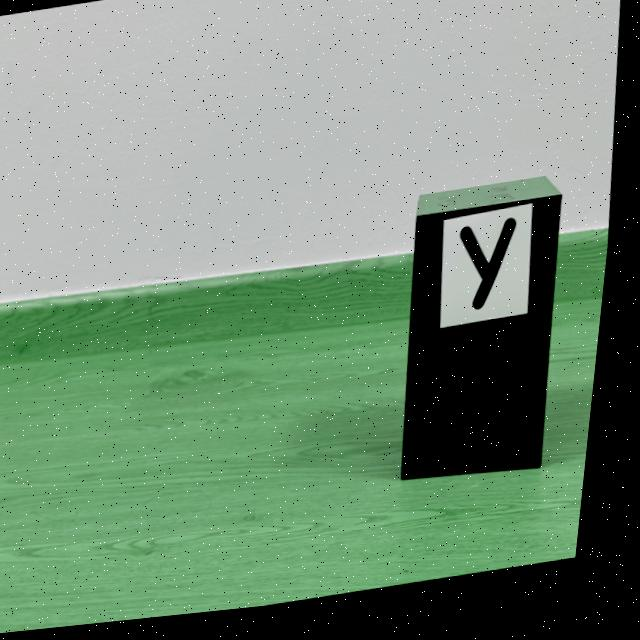Y: (466, 229, 523, 321)
